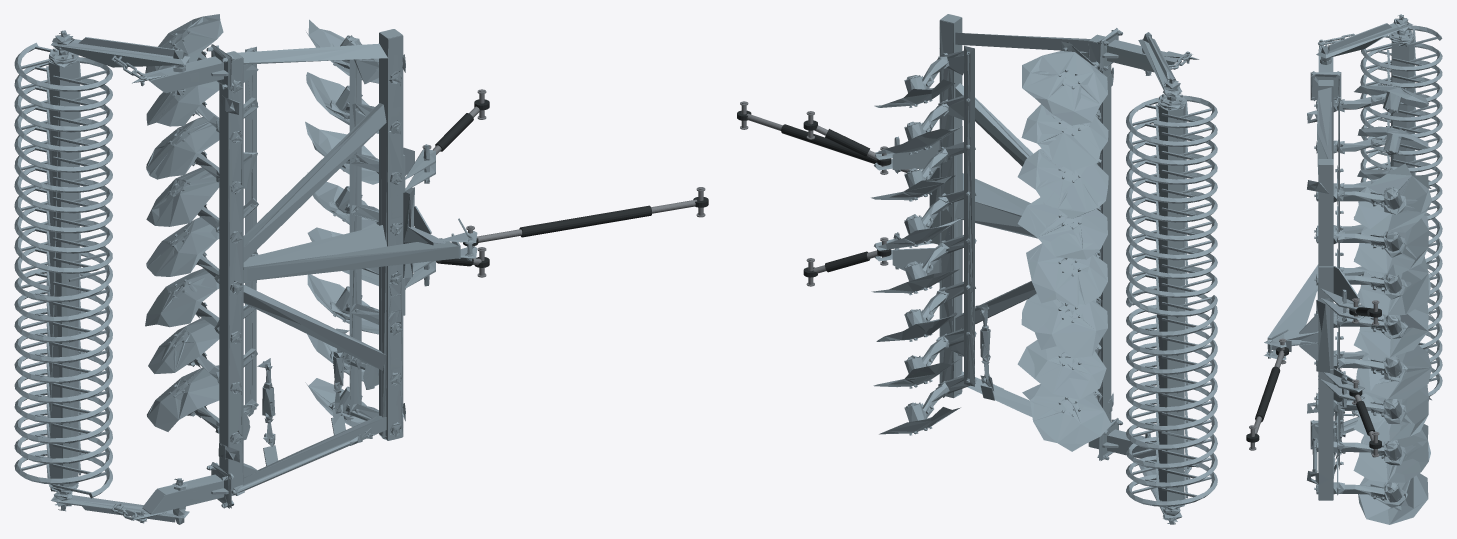
The model's file is implement_mounted_disc_harrow_visual.obj.
3 renders of one model, left to right at view 1: azimuth 30°, elevation 25°; view 2: azimuth 150°, elevation 25°; view 3: azimuth 270°, elevation 25°, orthographic. The views are drawn at different scales.
Parts seen in each view (by area): view 1: solid_786, solid_787, solid_16, solid_783, solid_7, solid_4, solid_38, solid_769, solid_3, solid_1382, solid_1472, solid_2 (+17 smaller); view 2: solid_787, solid_786, solid_783, solid_7, solid_1204, solid_1652, solid_1382, solid_769, solid_1832, solid_1562, solid_1472, solid_1292 (+22 smaller); view 3: solid_787, solid_7, solid_127, solid_479, solid_215, solid_655, solid_303, solid_391, solid_743, solid_567, solid_786, solid_783 (+31 smaller).
Part boxes in pixels (x1=…): solid_786: x1=14, y1=252, x2=112, y2=498; solid_787: x1=14, y1=42, x2=112, y2=291; solid_16: x1=219, y1=58, x2=243, y2=495; solid_783: x1=48, y1=60, x2=79, y2=486; solid_7: x1=379, y1=32, x2=403, y2=440; solid_4: x1=243, y1=103, x2=386, y2=262; solid_38: x1=247, y1=238, x2=458, y2=281; solid_769: x1=349, y1=59, x2=361, y2=416; solid_3: x1=243, y1=285, x2=386, y2=370; solid_1382: x1=146, y1=117, x2=219, y2=179; solid_1472: x1=146, y1=167, x2=219, y2=226; solid_2: x1=243, y1=225, x2=387, y2=282; solid_787: x1=1126, y1=95, x2=1217, y2=316; solid_786: x1=1126, y1=286, x2=1217, y2=506; solid_783: x1=1156, y1=104, x2=1185, y2=501; solid_7: x1=939, y1=17, x2=962, y2=397; solid_1204: x1=1022, y1=51, x2=1107, y2=125; solid_1652: x1=1021, y1=293, x2=1107, y2=358; solid_1382: x1=1017, y1=148, x2=1108, y2=218; solid_769: x1=964, y1=46, x2=974, y2=386; solid_1832: x1=1022, y1=384, x2=1111, y2=451; solid_1562: x1=1026, y1=243, x2=1107, y2=307; solid_1472: x1=1017, y1=197, x2=1107, y2=259; solid_1292: x1=1021, y1=104, x2=1108, y2=171; solid_787: x1=1360, y1=25, x2=1442, y2=220; solid_7: x1=1318, y1=159, x2=1333, y2=500; solid_127: x1=1353, y1=163, x2=1431, y2=232; solid_479: x1=1356, y1=345, x2=1431, y2=398; solid_215: x1=1353, y1=215, x2=1428, y2=275; solid_655: x1=1353, y1=424, x2=1430, y2=482; solid_303: x1=1357, y1=256, x2=1430, y2=315; solid_391: x1=1354, y1=301, x2=1428, y2=357; solid_743: x1=1358, y1=473, x2=1428, y2=524; solid_567: x1=1353, y1=385, x2=1428, y2=441; solid_786: x1=1360, y1=212, x2=1442, y2=396; solid_783: x1=1390, y1=37, x2=1414, y2=175.
Size of the model in its own units: 3.74 by 2.86 by 1.28.
